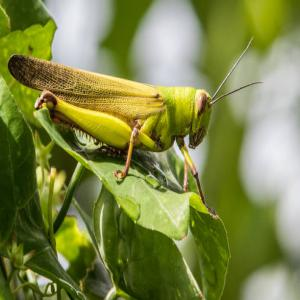locust: (6, 37, 237, 161)
